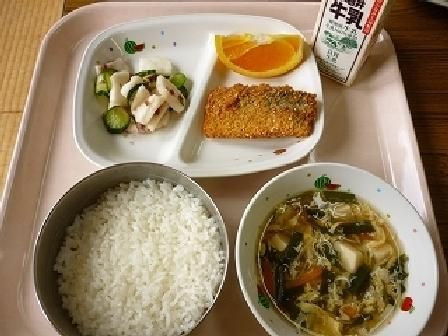Citrus: (210, 19, 307, 82)
Milk: (310, 0, 396, 71)
Rice: (32, 160, 228, 335)
Soups: (242, 170, 432, 335)
fried fish: (205, 82, 324, 153)
salad with sauce: (79, 39, 188, 149)
